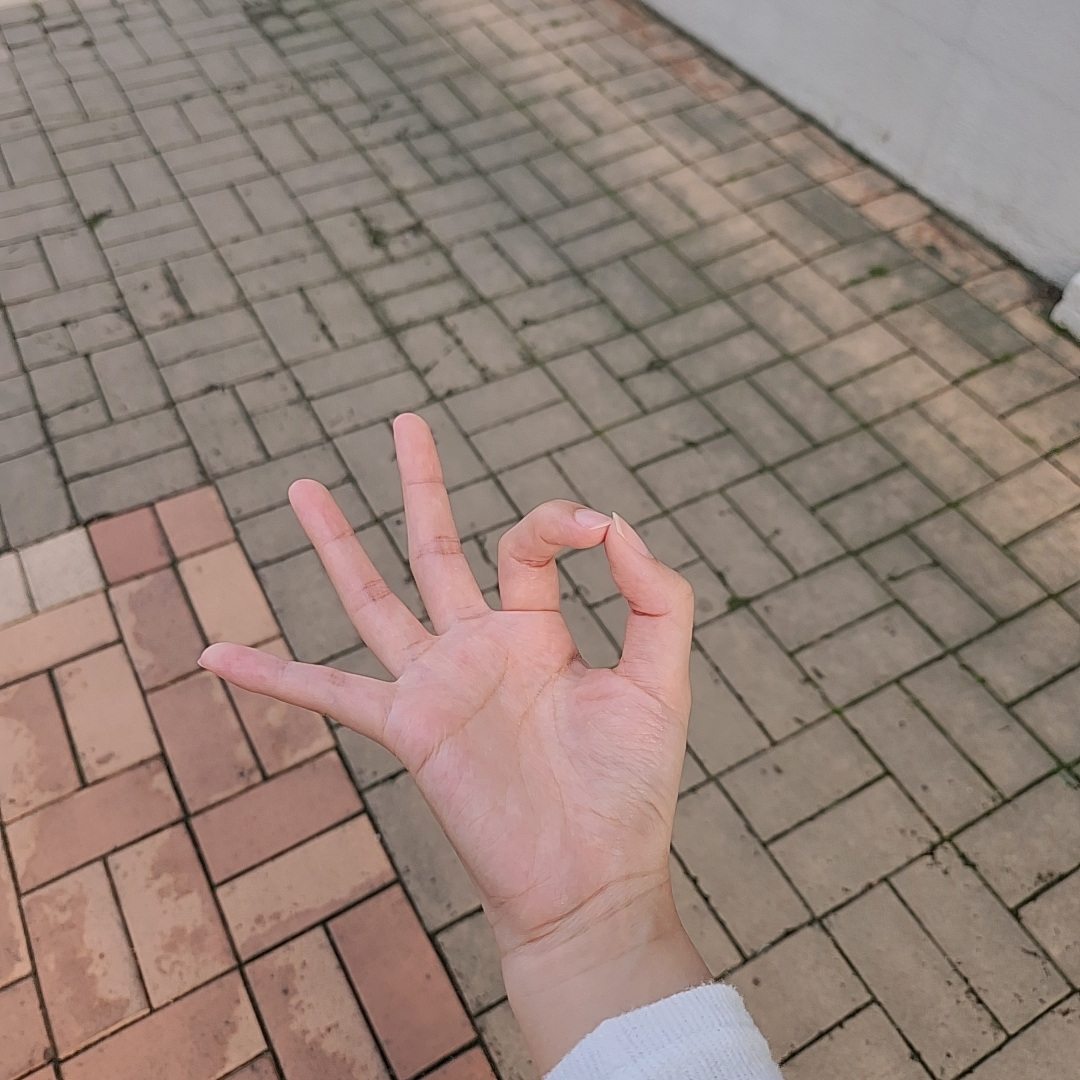see: (197, 412, 699, 914)
